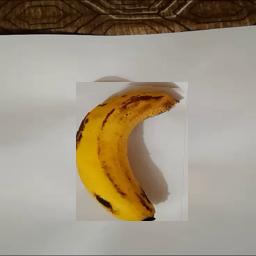Banana Semifresh: (77, 82, 189, 221)
